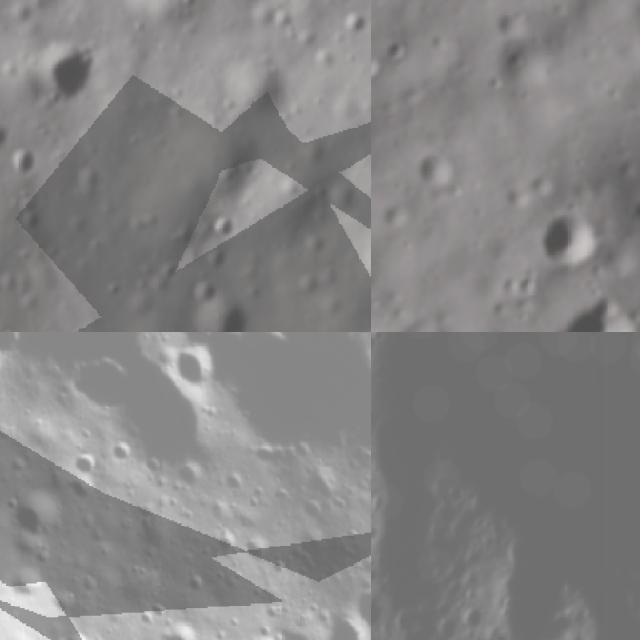crater: (371, 332, 640, 595), (176, 332, 371, 478), (67, 336, 214, 500), (28, 38, 106, 105), (2, 479, 69, 554), (260, 332, 368, 365), (569, 285, 640, 332), (323, 575, 371, 639), (170, 346, 221, 401), (193, 288, 251, 332), (548, 213, 601, 261), (5, 141, 42, 185), (148, 615, 209, 640), (415, 152, 455, 188), (336, 4, 371, 41), (0, 332, 32, 371), (393, 601, 426, 634), (102, 268, 130, 304), (464, 597, 491, 630), (371, 596, 391, 640), (208, 217, 244, 240), (440, 611, 465, 640), (54, 629, 97, 640), (0, 116, 10, 155), (371, 332, 389, 353), (630, 199, 640, 230), (371, 50, 381, 79)
